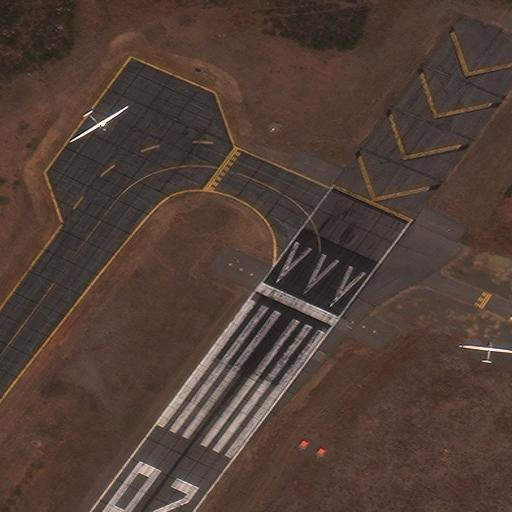Medium Civil Transport: (70, 107, 128, 142), (458, 341, 512, 363)
